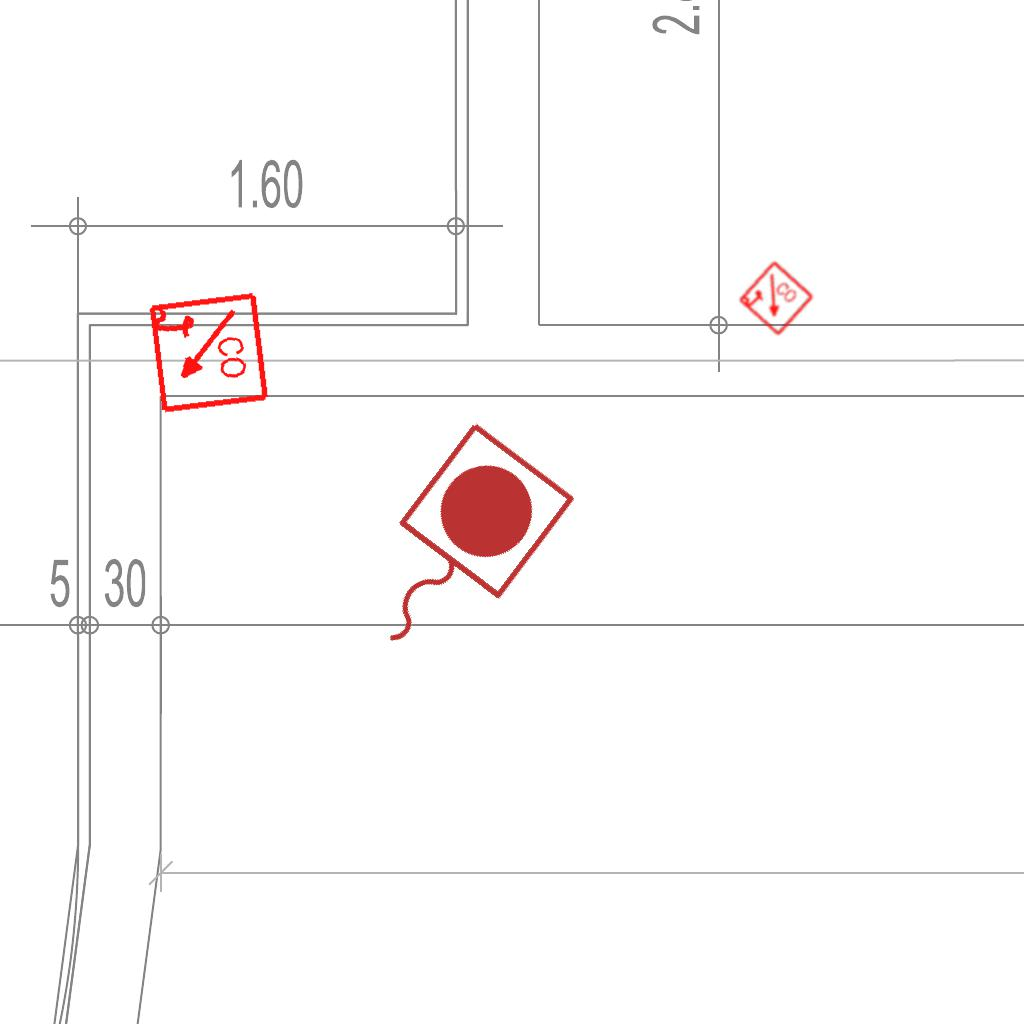ROA_Rauchmelder_optisch_mit_Signalgeber_(Sockelsirene): (144, 290, 271, 417), (736, 259, 816, 339)
Zugtaster: (324, 409, 586, 691)
